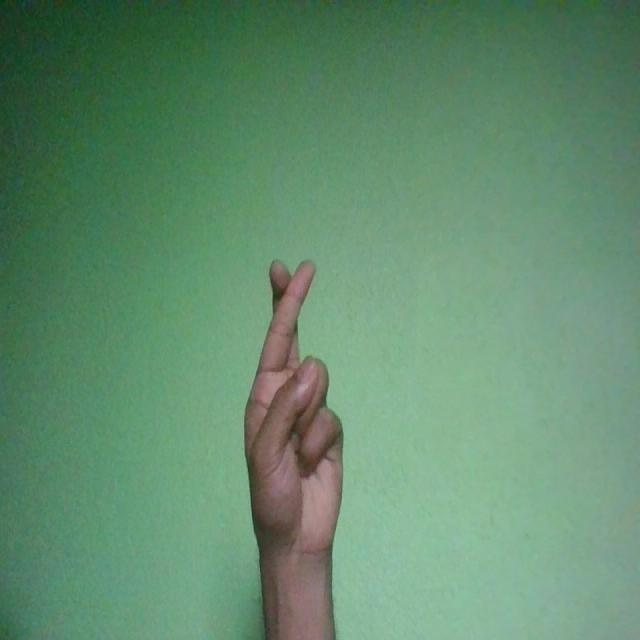Ok: (243, 262, 344, 560)
